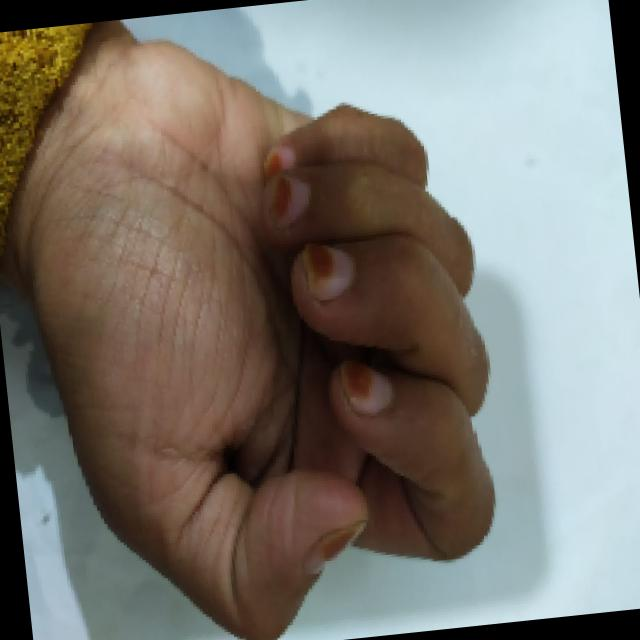Nail: (304, 520, 365, 574), (339, 359, 392, 415), (303, 243, 353, 301), (270, 174, 309, 227), (265, 144, 295, 177)
